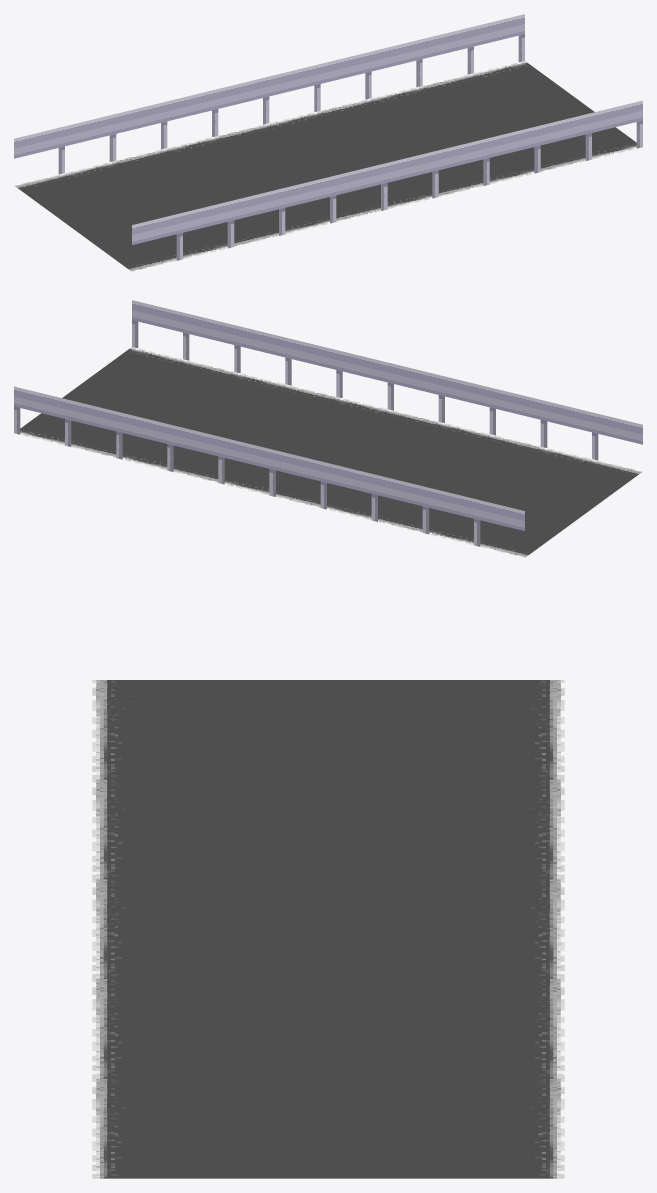
The model's file is Gift_Plane.glb.
3 renders of one model, top to bottom at view 1: azimuth 30°, elevation 25°; view 2: azimuth 150°, elevation 25°; view 3: azimuth 270°, elevation 25°, orthographic. The views are drawn at different scales.
Parts seen in each view (by area): view 1: Road Object, Front Rail Object, Back Rail Object; view 2: Road Object, Back Rail Object, Front Rail Object; view 3: Road Object.
Boxes of the visible parts, box(x1,y1,x2,y2) form: Road Object: box(14, 61, 636, 271); Front Rail Object: box(14, 14, 524, 174); Back Rail Object: box(132, 100, 642, 260); Road Object: box(20, 347, 642, 557); Back Rail Object: box(132, 300, 642, 460); Front Rail Object: box(14, 386, 524, 546); Road Object: box(92, 680, 564, 1178).
Size of what is drawn, in the model's own units: 10 by 0.875 by 4.
2 materials, 2 textured.
